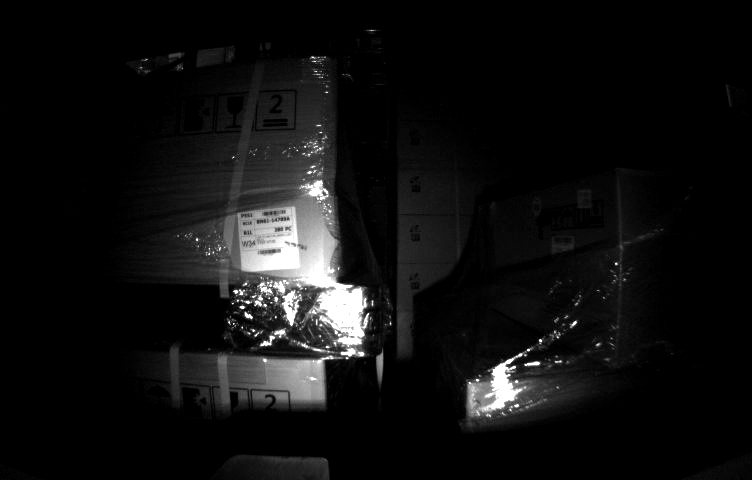True Barcode: (238, 206, 298, 270)
